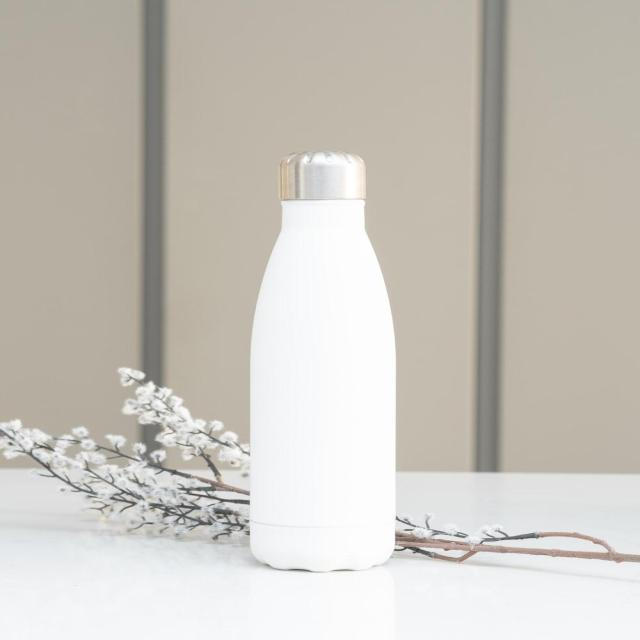bottle: (231, 140, 417, 584)
